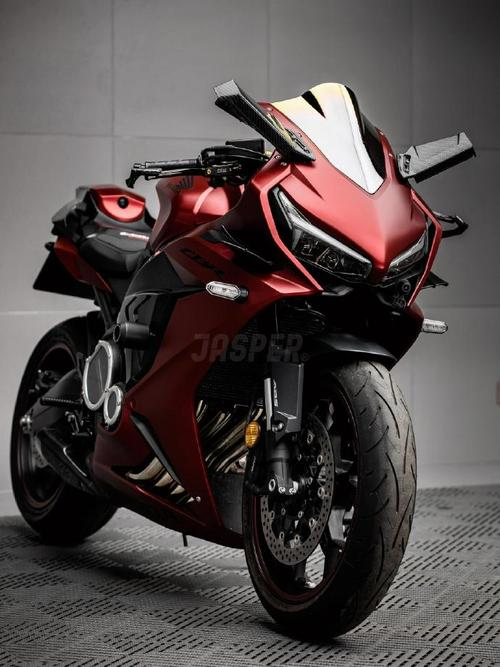摩托车: (3, 80, 485, 647)
